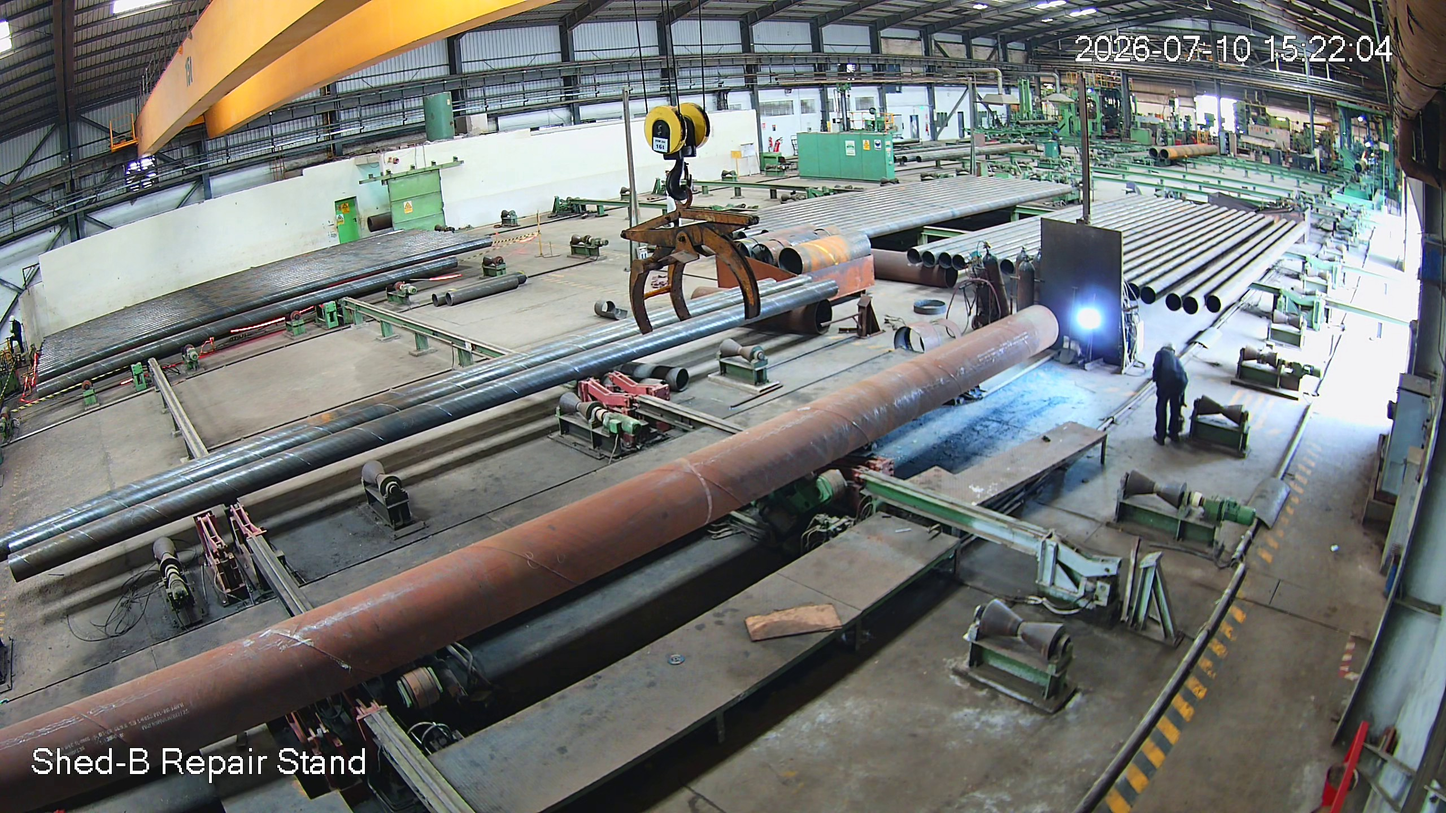Person: (1142, 340, 1201, 452)
